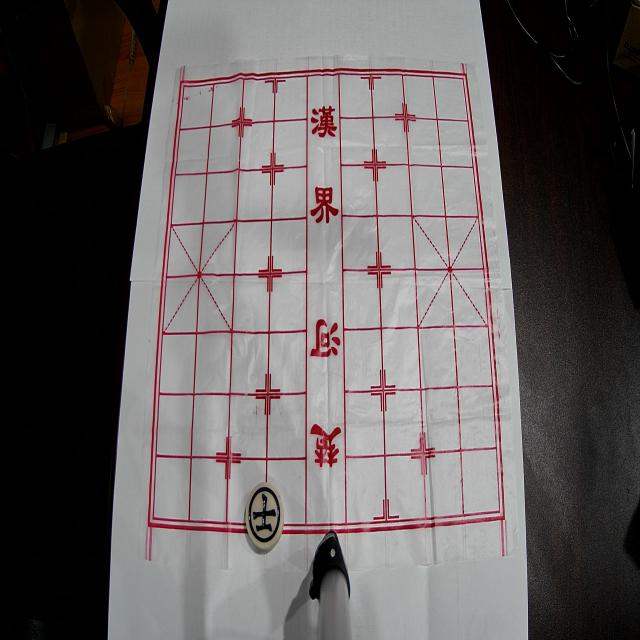black-guard: (246, 482, 284, 550)
